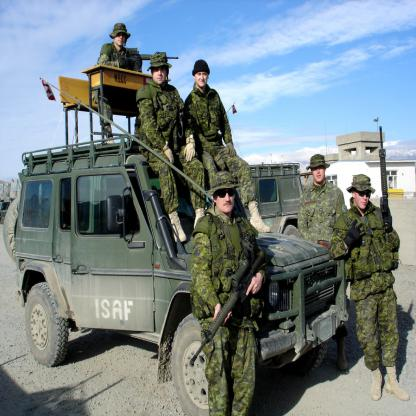Car: (3, 64, 350, 415), (233, 164, 305, 238)
